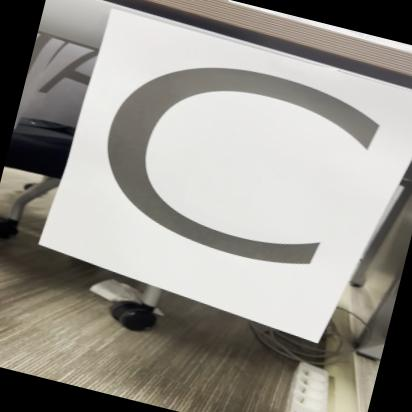seat: (31, 0, 412, 354)
